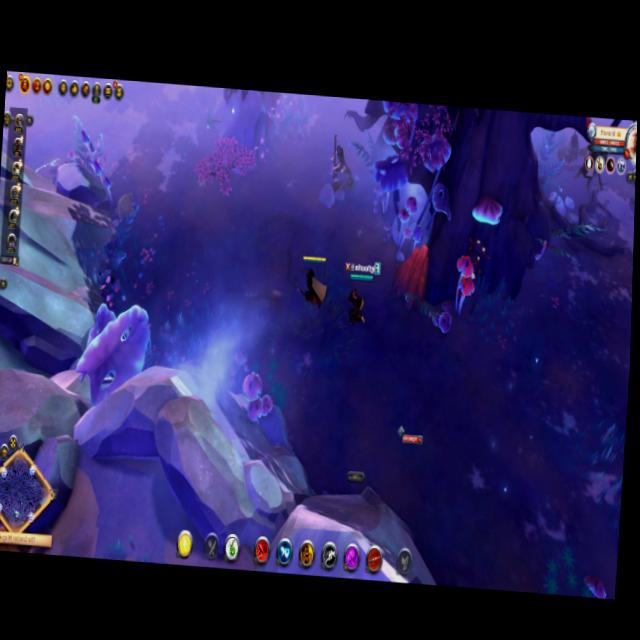ore: (454, 230, 493, 322), (326, 130, 353, 188)
red: (335, 255, 381, 335), (294, 250, 332, 311)
tree: (387, 229, 437, 320)
